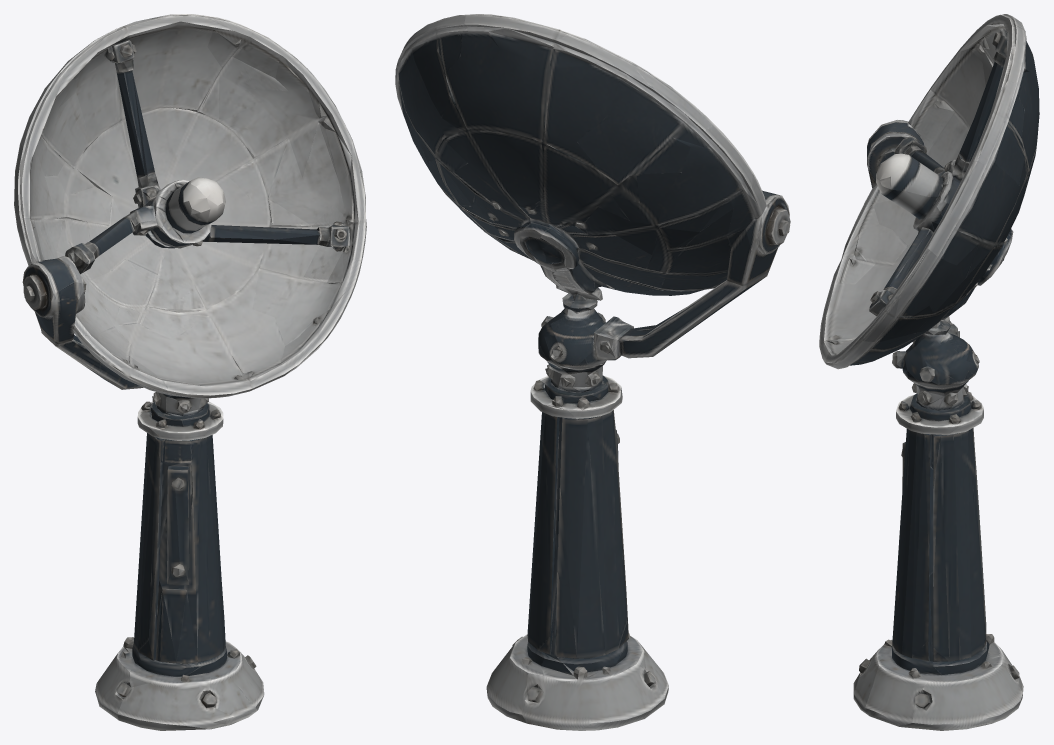
File: radar-dish.glb
3 views of the same model, side by side, from view 1: azimuth 30°, elevation 25°; view 2: azimuth 150°, elevation 25°; view 3: azimuth 270°, elevation 25° (orthographic). The views are drawn at different scales.
Visible parts, largest first — view 1: output_unwrapped; view 2: output_unwrapped; view 3: output_unwrapped.
Boxes of the visible parts, x1,y1,x2,y2 form: output_unwrapped: (14,14,366,730); output_unwrapped: (395,14,790,730); output_unwrapped: (819,14,1039,730).
Bounding box in the file's own units: 1.05 × 1.9 × 0.5734.
Materials: 1 (1 with a texture image).
